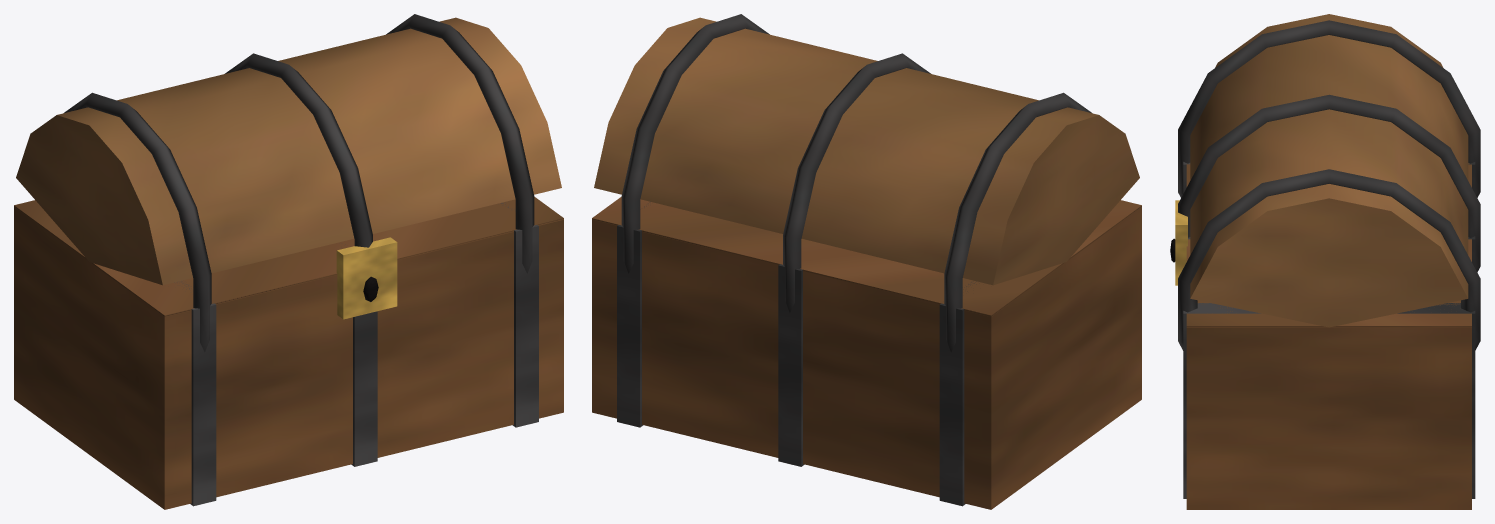
Rendered from chest.obj.
3 views of the same model, side by side, from view 1: azimuth 30°, elevation 25°; view 2: azimuth 150°, elevation 25°; view 3: azimuth 270°, elevation 25° (orthographic). The views are drawn at different scales.
Size of the model in its own units: 5.2 by 4.27 by 3.7.
Materials: 1 (1 with a texture image).
